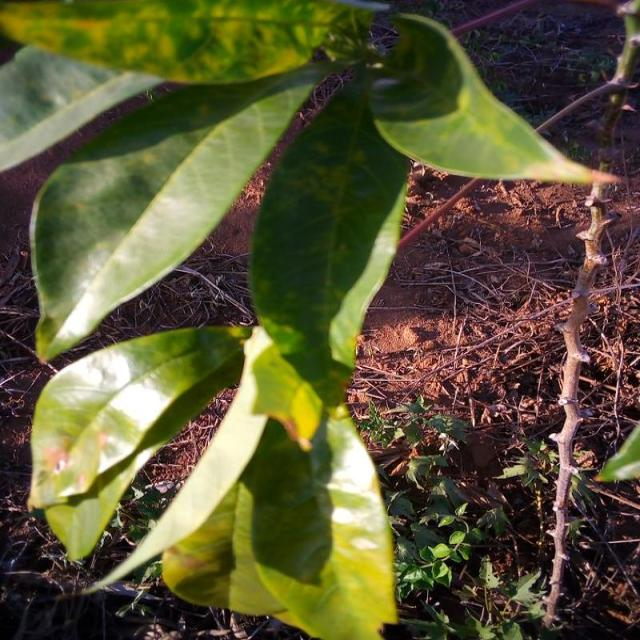cassava leaf: (4, 2, 618, 637), (26, 51, 357, 365), (160, 403, 398, 638), (247, 65, 411, 406), (27, 322, 252, 563), (366, 11, 622, 186)
